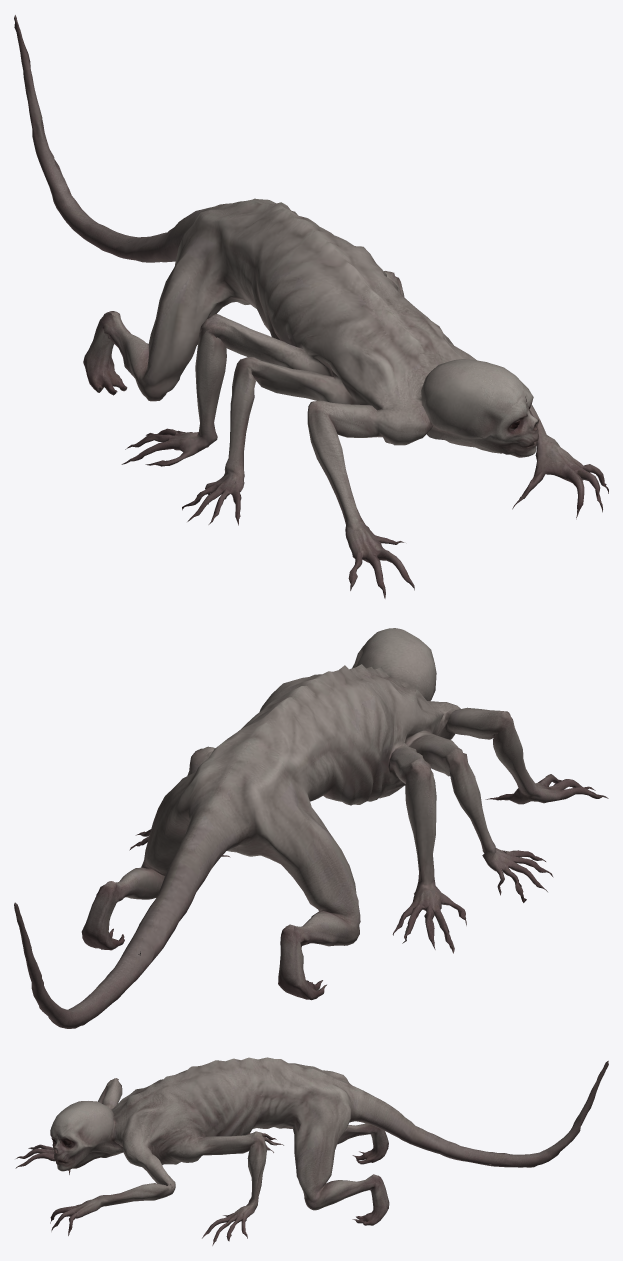
Rendered from specimen.glb.
The picture shows the model from 3 angles, top to bottom: view 1: azimuth 30°, elevation 25°; view 2: azimuth 150°, elevation 25°; view 3: azimuth 270°, elevation 25°; orthographic projection. The views are drawn at different scales.
Size of the model in its own units: 0.4233 by 0.2393 by 0.9556.
1 material, 1 textured.
